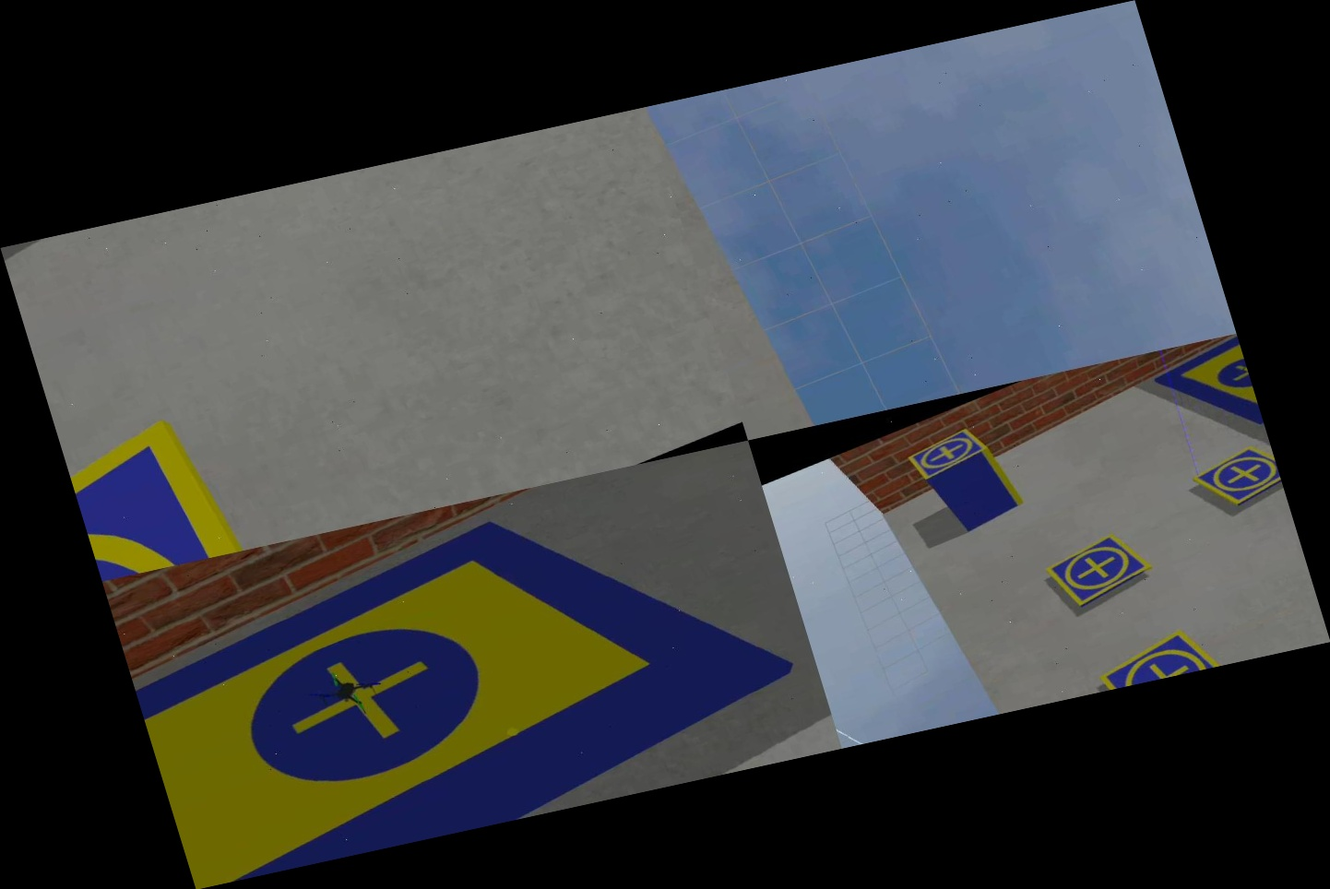large_base: (102, 441, 837, 889), (1142, 334, 1268, 460)
small_base: (60, 407, 260, 581), (1036, 525, 1164, 619), (1087, 618, 1234, 691), (1186, 439, 1288, 520), (900, 421, 997, 484)
